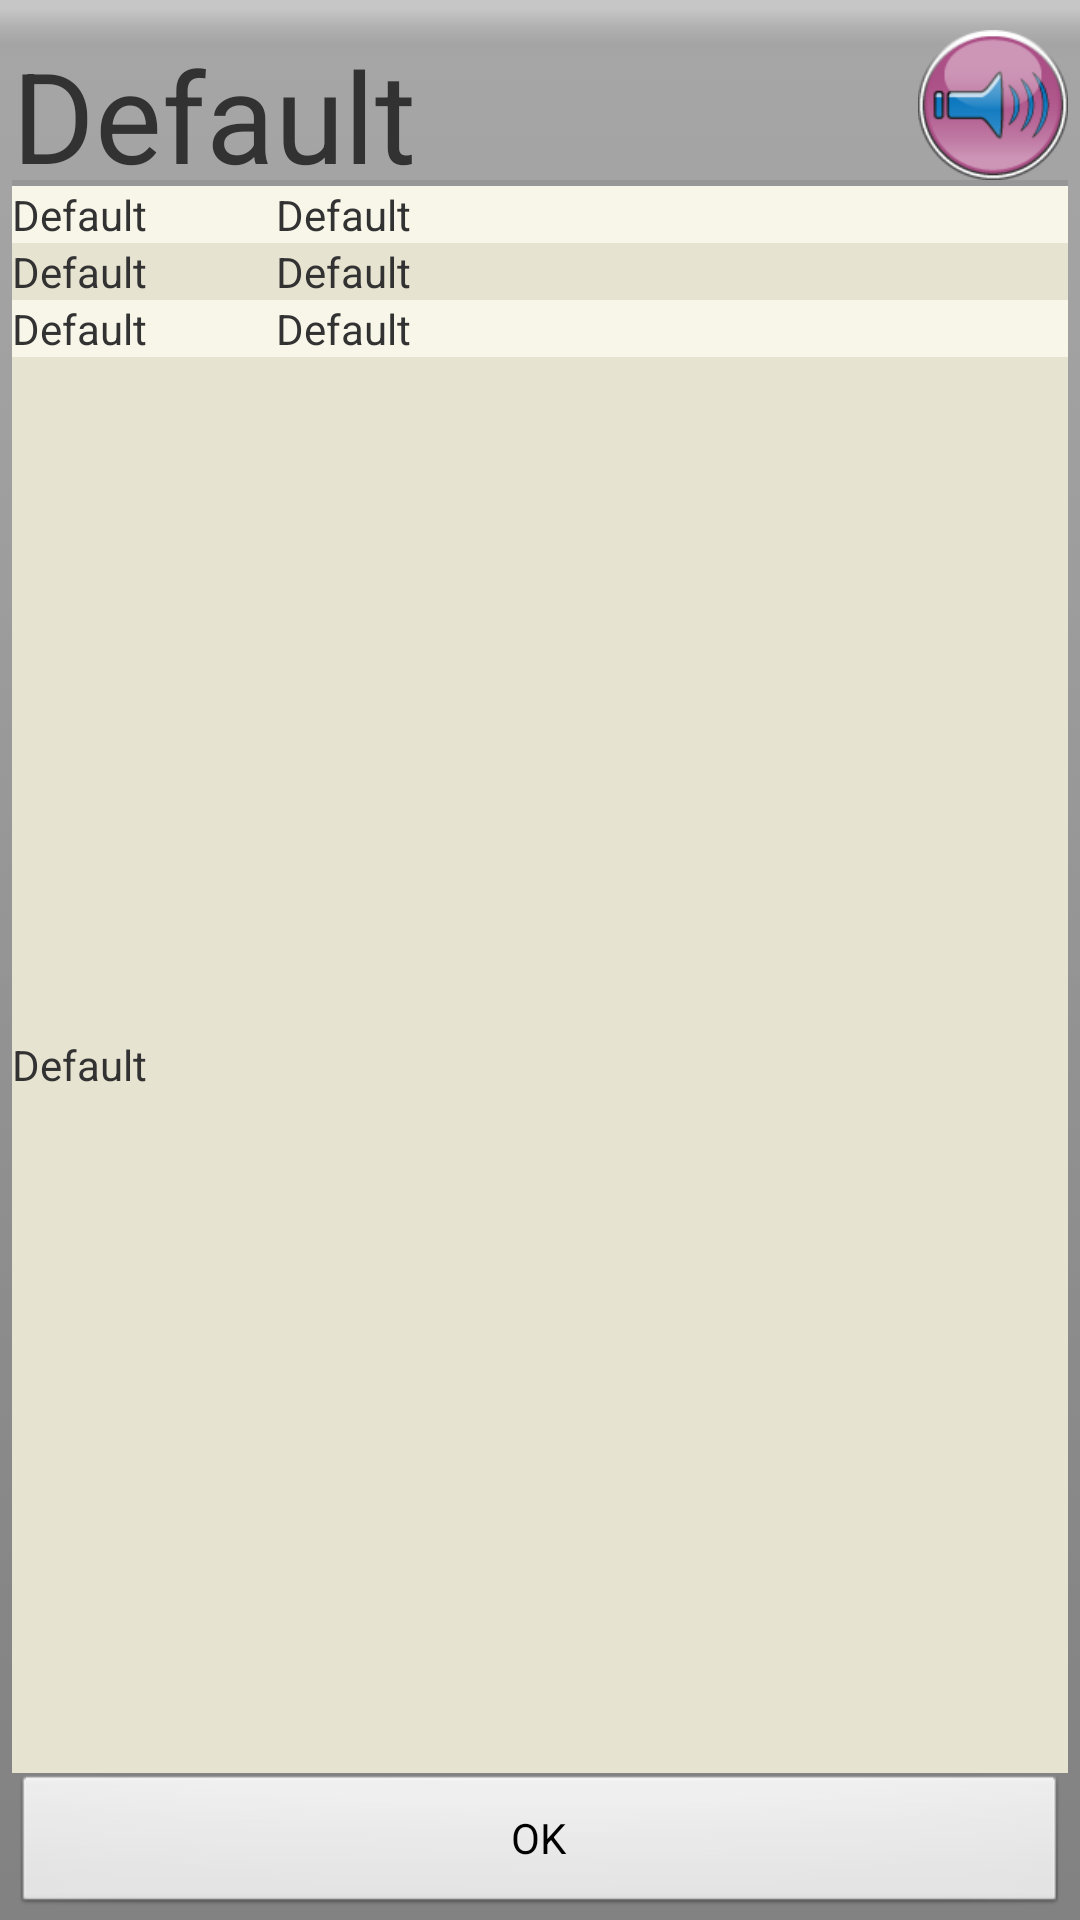

Where icons sit on this 1080 × 1920 app screen, as [x1, y1, x2, y2]:
listen: [918, 30, 1068, 180]
